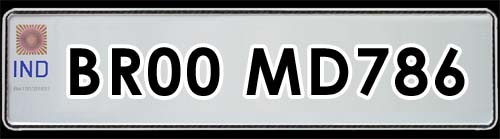number_plate: (1, 1, 499, 134)
